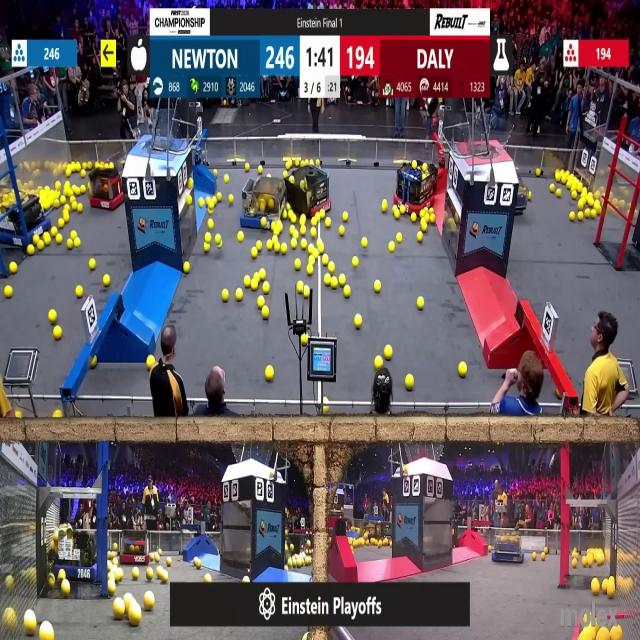ball_ground: (130, 605, 142, 627), (114, 599, 125, 619), (144, 592, 155, 610), (458, 360, 468, 376), (61, 581, 70, 598), (592, 580, 600, 596), (267, 365, 275, 380), (354, 314, 362, 328), (146, 355, 154, 369), (48, 310, 56, 324), (385, 346, 393, 360), (108, 582, 116, 596), (344, 285, 352, 298), (376, 356, 384, 369), (4, 285, 12, 298), (55, 326, 63, 339), (607, 585, 614, 599), (409, 374, 415, 390), (9, 263, 17, 275), (76, 285, 83, 298), (64, 181, 71, 194), (43, 234, 51, 245), (304, 286, 311, 298), (103, 275, 110, 287), (57, 330, 63, 344), (272, 222, 279, 234), (237, 288, 244, 300), (375, 280, 382, 292), (133, 568, 140, 580), (28, 245, 36, 255), (147, 567, 153, 580), (393, 206, 399, 219), (264, 282, 271, 293), (299, 239, 306, 250), (244, 276, 251, 287), (324, 275, 331, 286), (183, 263, 189, 275), (264, 308, 270, 320), (257, 295, 263, 307), (418, 296, 424, 308), (341, 274, 347, 286), (296, 280, 302, 292), (221, 288, 227, 300), (60, 568, 66, 580), (205, 234, 212, 244), (37, 241, 44, 251), (72, 184, 79, 194), (289, 225, 296, 235), (299, 225, 306, 235), (328, 263, 334, 274), (90, 260, 96, 271), (308, 266, 314, 277), (331, 277, 337, 288), (340, 224, 346, 235), (577, 199, 583, 210), (163, 571, 169, 582), (259, 270, 265, 281), (252, 280, 258, 291), (55, 412, 63, 420), (56, 236, 63, 245), (597, 556, 604, 565), (205, 574, 212, 583), (74, 238, 80, 248), (361, 238, 367, 248), (322, 254, 328, 264), (352, 256, 358, 266), (68, 239, 74, 249), (238, 233, 244, 243), (291, 240, 297, 250), (396, 234, 402, 244), (66, 168, 72, 178), (208, 218, 214, 228), (299, 214, 305, 224), (422, 221, 428, 231), (207, 199, 213, 209), (214, 235, 220, 245), (586, 209, 592, 219), (194, 558, 200, 568), (244, 575, 250, 584), (569, 211, 575, 220), (310, 229, 316, 238), (204, 243, 210, 252), (429, 214, 435, 223), (571, 559, 577, 568), (186, 197, 192, 206), (290, 213, 296, 222), (275, 243, 281, 252), (294, 261, 299, 271), (418, 233, 423, 243), (252, 248, 257, 258), (256, 241, 261, 251), (269, 241, 274, 251), (93, 357, 98, 367), (14, 412, 20, 420), (591, 210, 597, 218), (281, 244, 286, 253), (223, 174, 228, 183), (257, 166, 262, 175), (577, 211, 582, 220), (80, 184, 85, 193), (572, 189, 577, 198), (283, 211, 288, 220), (556, 188, 562, 195), (112, 558, 118, 565), (77, 205, 83, 212), (388, 240, 393, 248), (324, 406, 328, 416), (168, 558, 173, 566), (200, 200, 205, 208), (532, 553, 537, 561), (216, 192, 221, 200), (71, 232, 76, 240), (595, 200, 600, 208), (536, 169, 540, 178), (412, 212, 416, 221), (51, 227, 56, 234), (56, 181, 61, 188), (344, 212, 348, 220), (60, 219, 64, 227), (528, 191, 532, 199), (80, 171, 85, 177), (208, 209, 214, 214), (370, 539, 375, 544), (199, 560, 202, 568)
goal: (460, 117, 516, 158), (130, 118, 188, 151)
robot_blue: (0, 183, 52, 247), (46, 520, 98, 582), (240, 178, 278, 230), (492, 528, 523, 564)
robot_red: (397, 160, 438, 211), (299, 162, 330, 216), (89, 162, 123, 211), (119, 530, 150, 566)
